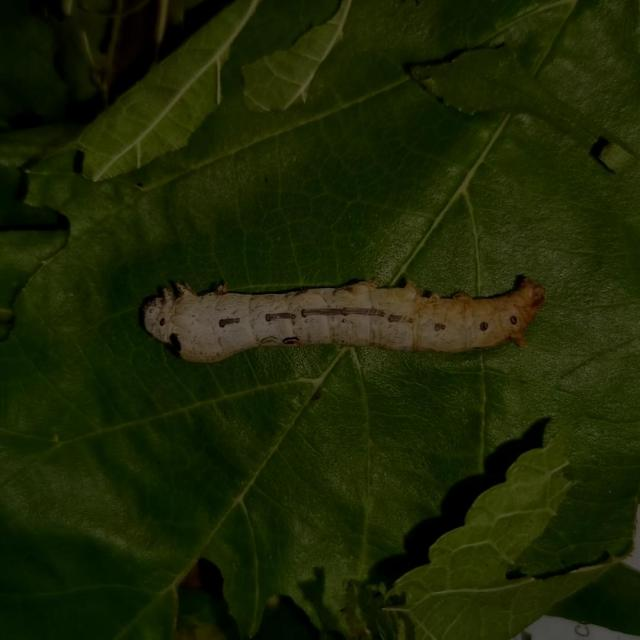Grasserie: (135, 254, 554, 380)
